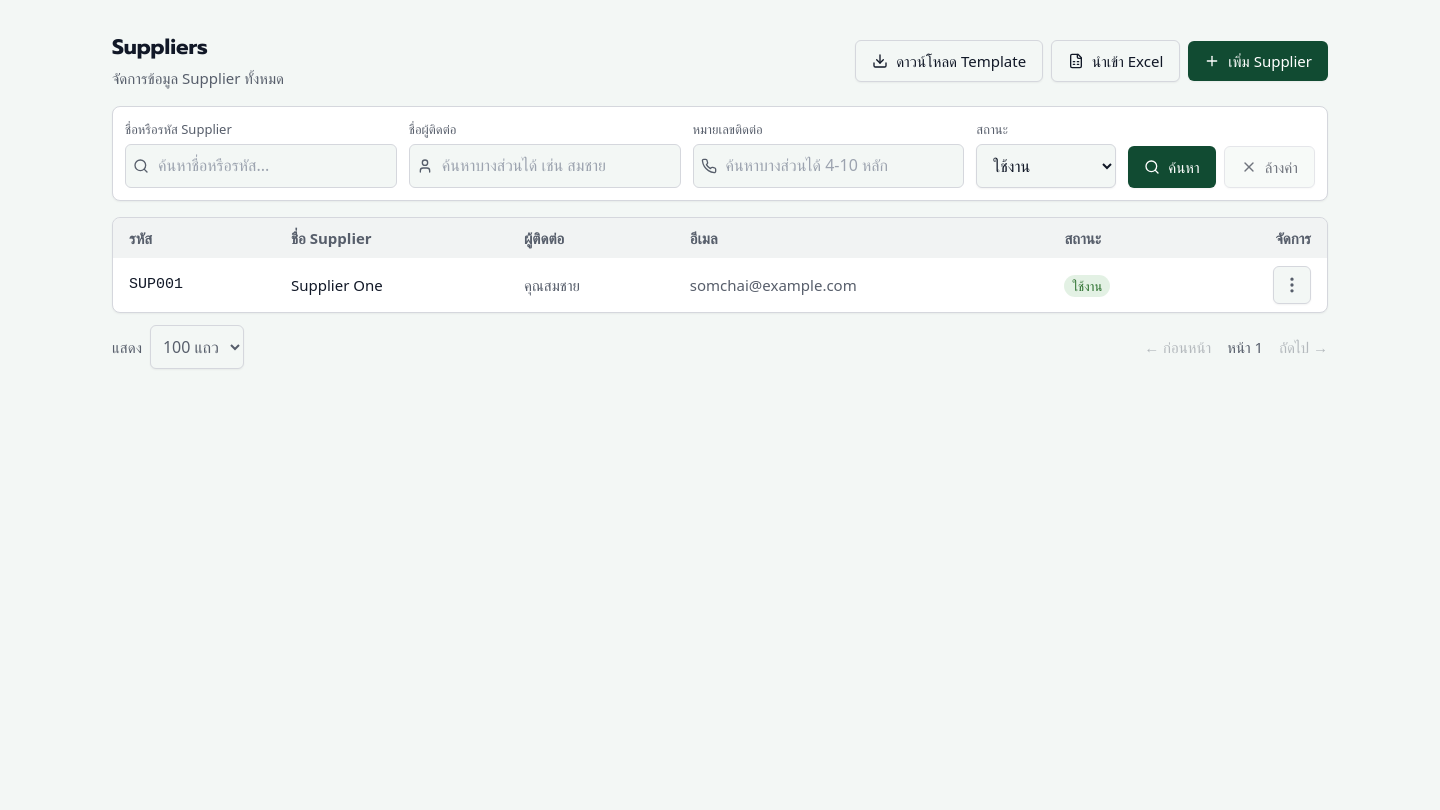
Suppliers — inspection-code retirement (round 8-3G) › does not render an inspection-code field in the create form
Expected: the text "SUP001" is shown, left=113, top=258, right=275, bottom=312
Click the button "เพิ่ม Supplier". click: (1258, 61)
box: left=1188, top=41, right=1328, bottom=81
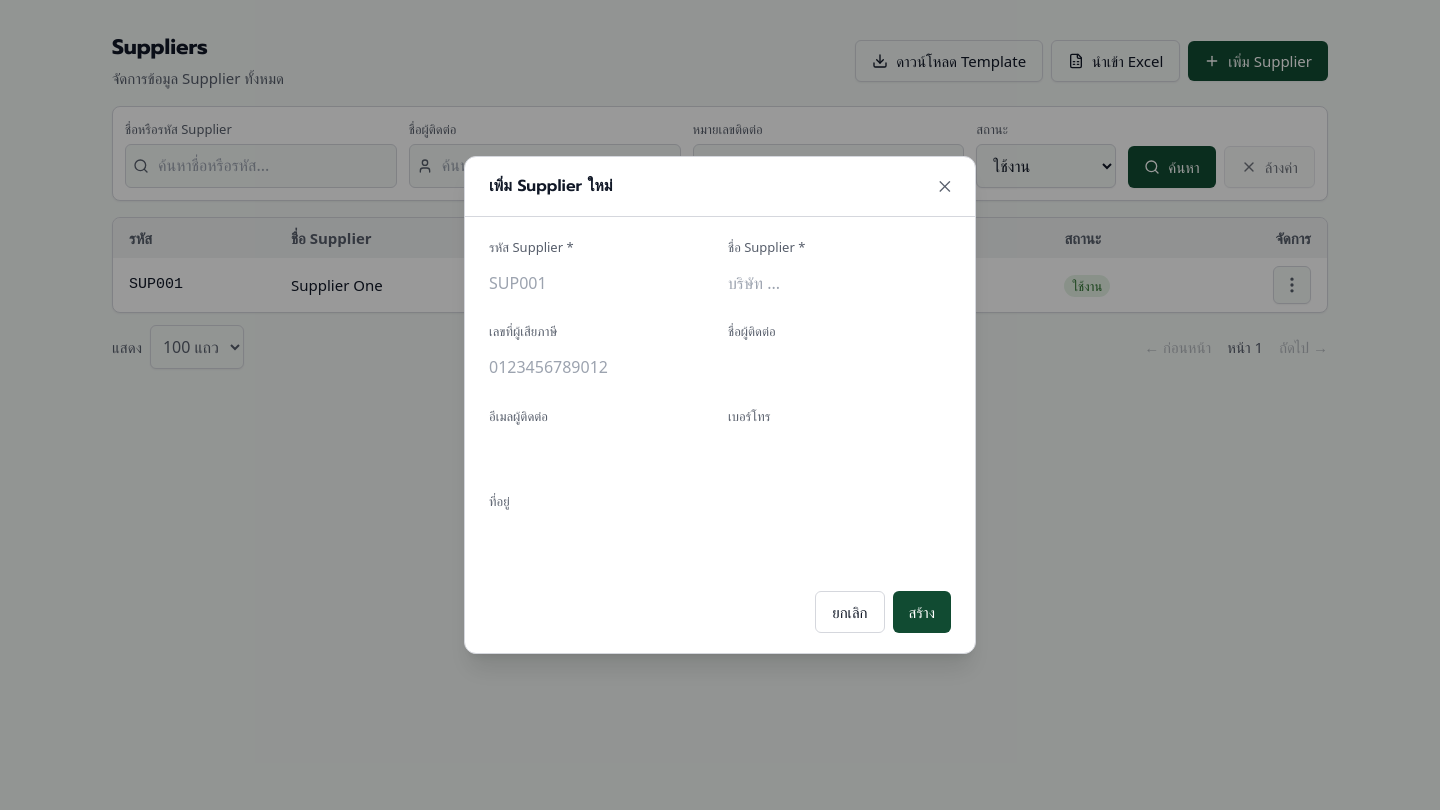
Now the heading "เพิ่ม Supplier ใหม่" is shown, box left=489, top=173, right=612, bottom=200
